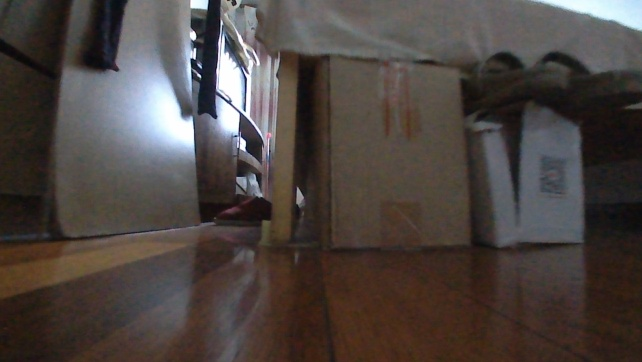bed1: (240, 0, 641, 250)
shoe: (210, 192, 278, 229)
